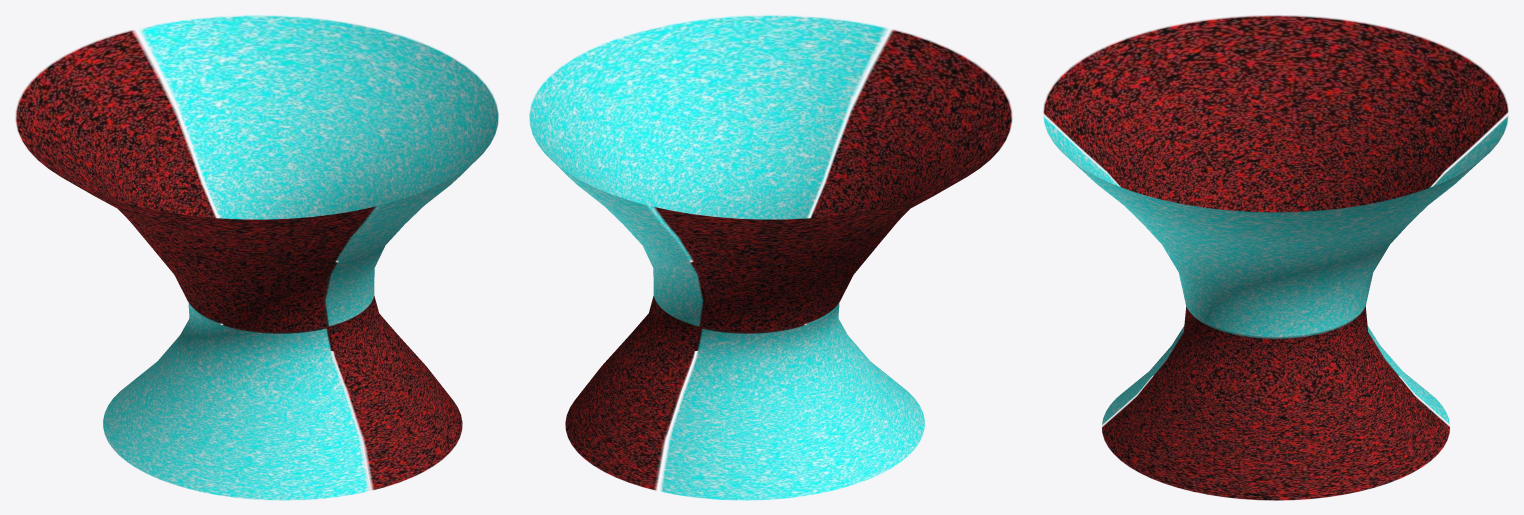
The picture shows the model from 3 angles, left to right: view 1: azimuth 30°, elevation 25°; view 2: azimuth 150°, elevation 25°; view 3: azimuth 270°, elevation 25°; orthographic projection. The views are drawn at different scales.
Parts seen in each view (by area): view 1: SM_VFX_Sandstorm_LOD0; view 2: SM_VFX_Sandstorm_LOD0; view 3: SM_VFX_Sandstorm_LOD0.
Part boxes in pixels (x1,y1,x2,y2): SM_VFX_Sandstorm_LOD0: (15,15,498,500); SM_VFX_Sandstorm_LOD0: (529,15,1012,500); SM_VFX_Sandstorm_LOD0: (1043,15,1508,500).
Size of the model in its own units: 346 by 247 by 346.
Materials: 1 (1 with a texture image).
